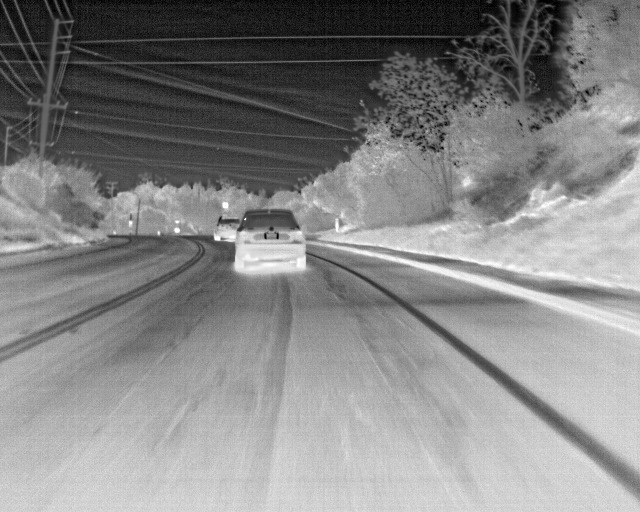vehicle: (236, 210, 306, 271), (214, 215, 245, 244)
